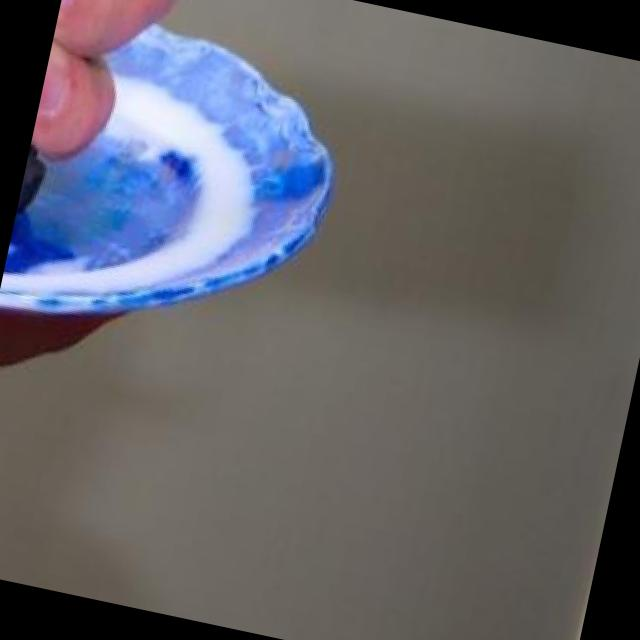Guns: (6, 0, 640, 385)
